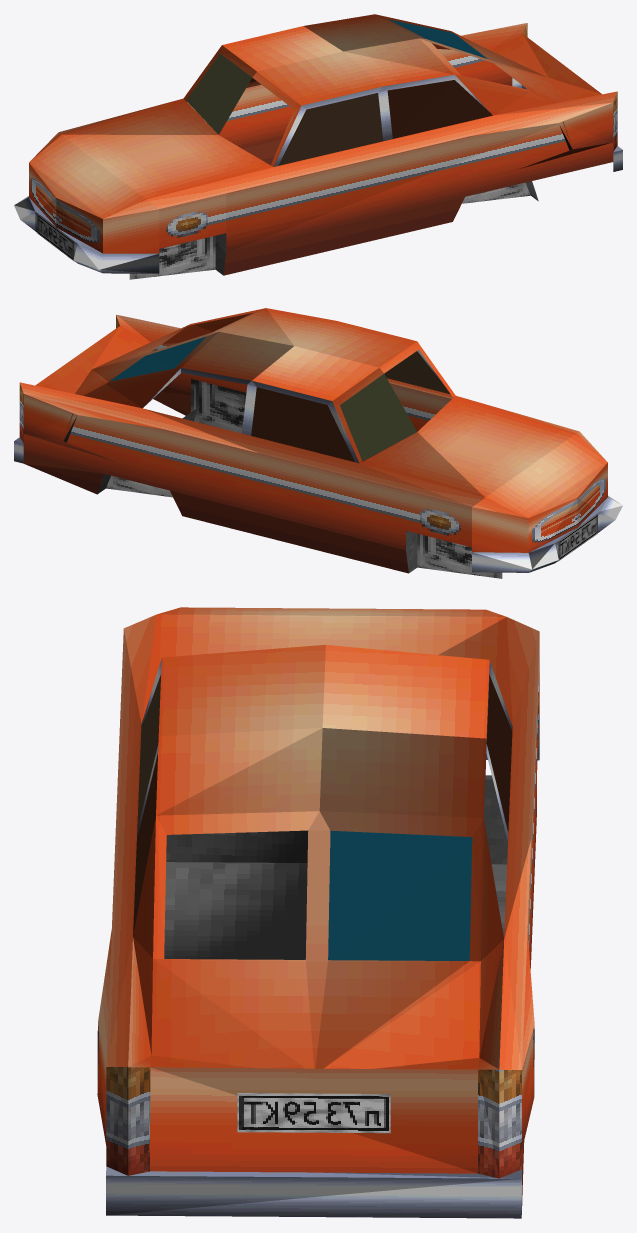
Rendered from primary_018.glb.
3 renders of one model, top to bottom at view 1: azimuth 30°, elevation 25°; view 2: azimuth 150°, elevation 25°; view 3: azimuth 270°, elevation 25°, orthographic. The views are drawn at different scales.
Parts seen in each view (by area): view 1: Object; view 2: Object; view 3: Object.
Boxes of the visible parts, left/top/right/bottom form: Object: left=14, top=14, right=622, bottom=279; Object: left=14, top=308, right=622, bottom=578; Object: left=97, top=607, right=539, bottom=1218.
Size of the model in its own units: 5.62 by 1.53 by 2.06.
86 materials, 86 textured.
